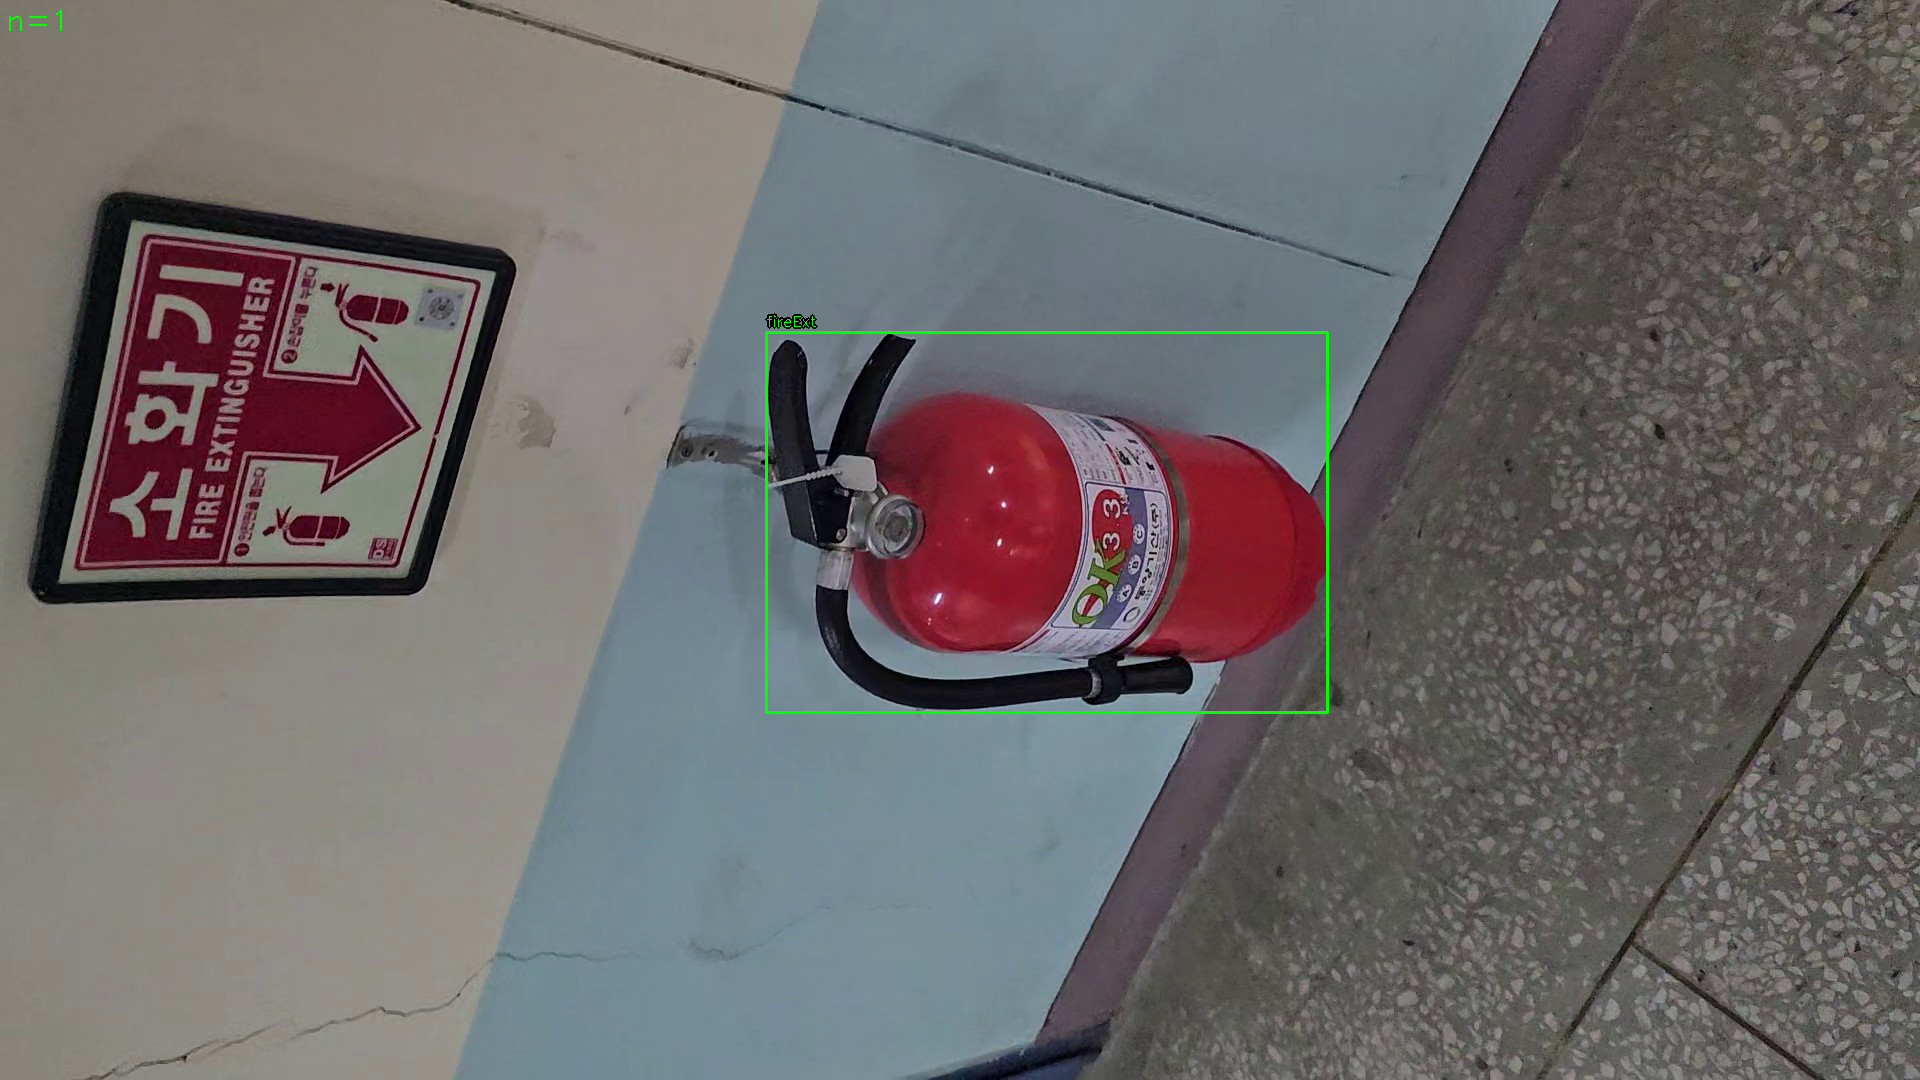lane: (766, 332, 1328, 713)
